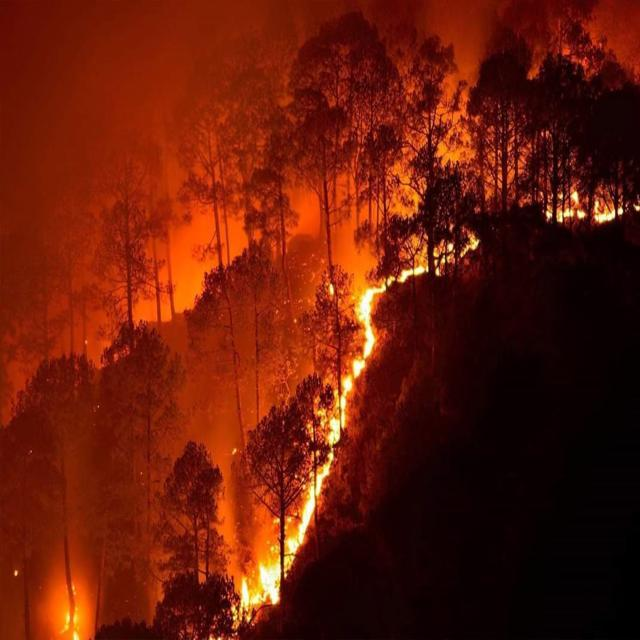Fire: (224, 272, 384, 635)
Smoke: (1, 8, 276, 539)
